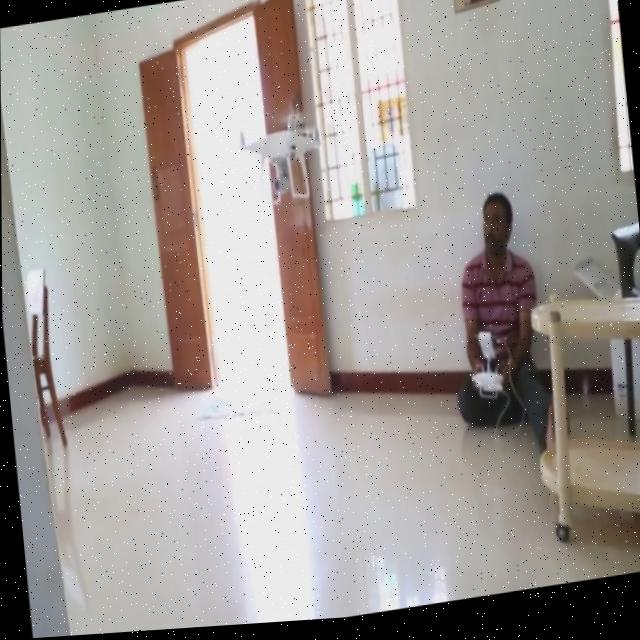drones: (225, 71, 338, 228)
